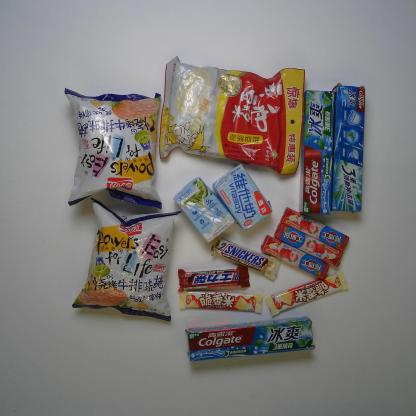Candy: (260, 234, 329, 280), (280, 207, 350, 252), (274, 222, 344, 267)
Chocolate: (264, 269, 349, 317), (210, 236, 282, 282), (179, 288, 263, 314), (177, 264, 251, 292)
Instant Drink: (159, 56, 304, 175)
Milk: (174, 176, 236, 244), (212, 162, 272, 232)
Personal Hygiene: (184, 316, 315, 362), (331, 83, 365, 213), (299, 90, 334, 216)
Puffed Food: (72, 198, 181, 322), (64, 88, 163, 210)
